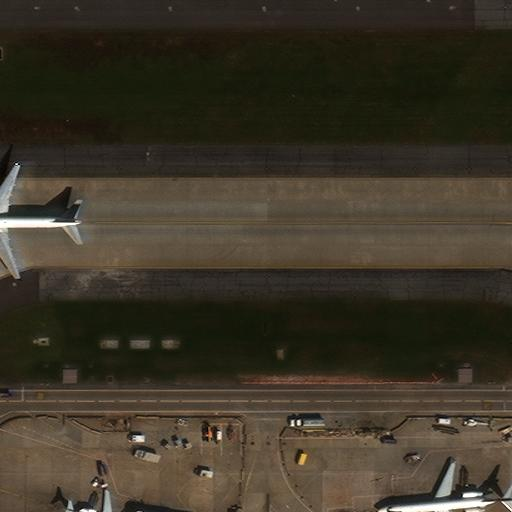Large Civil Transport: (0, 162, 82, 279)
Medium Civil Transport: (377, 462, 512, 512), (65, 490, 128, 512)
